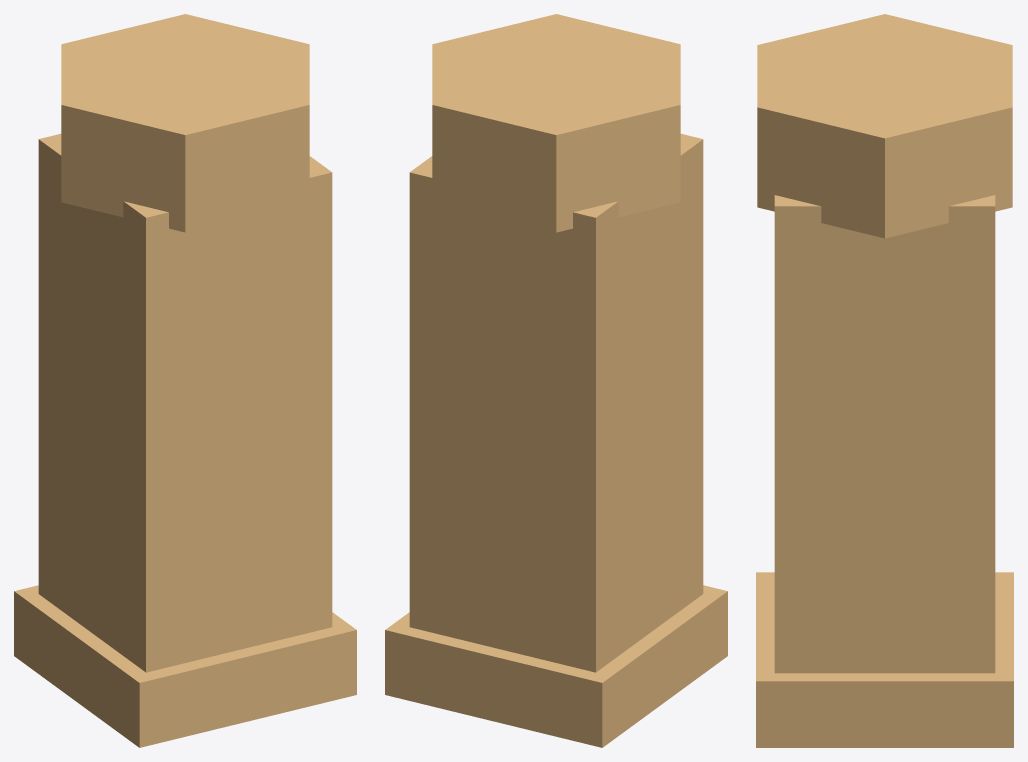
Rendered from lantern.glb.
3 renders of one model, left to right at view 1: azimuth 30°, elevation 25°; view 2: azimuth 150°, elevation 25°; view 3: azimuth 270°, elevation 25°, orthographic. The views are drawn at different scales.
Parts seen in each view (by area): view 1: lantern; view 2: lantern; view 3: lantern.
Boxes of the visible parts, x1,y1,x2,y2 form: lantern: [14, 14, 356, 747]; lantern: [385, 14, 727, 747]; lantern: [756, 14, 1013, 747].
Bounding box in the file's own units: 0.16 × 0.37 × 0.14.
